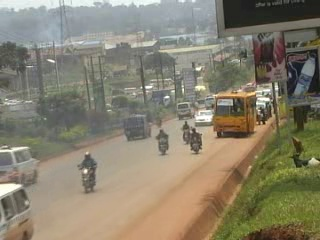Car: (190, 108, 215, 127)
Motorcycle: (76, 150, 101, 194), (187, 125, 204, 154), (155, 127, 171, 157), (178, 119, 192, 145), (153, 111, 163, 131)
